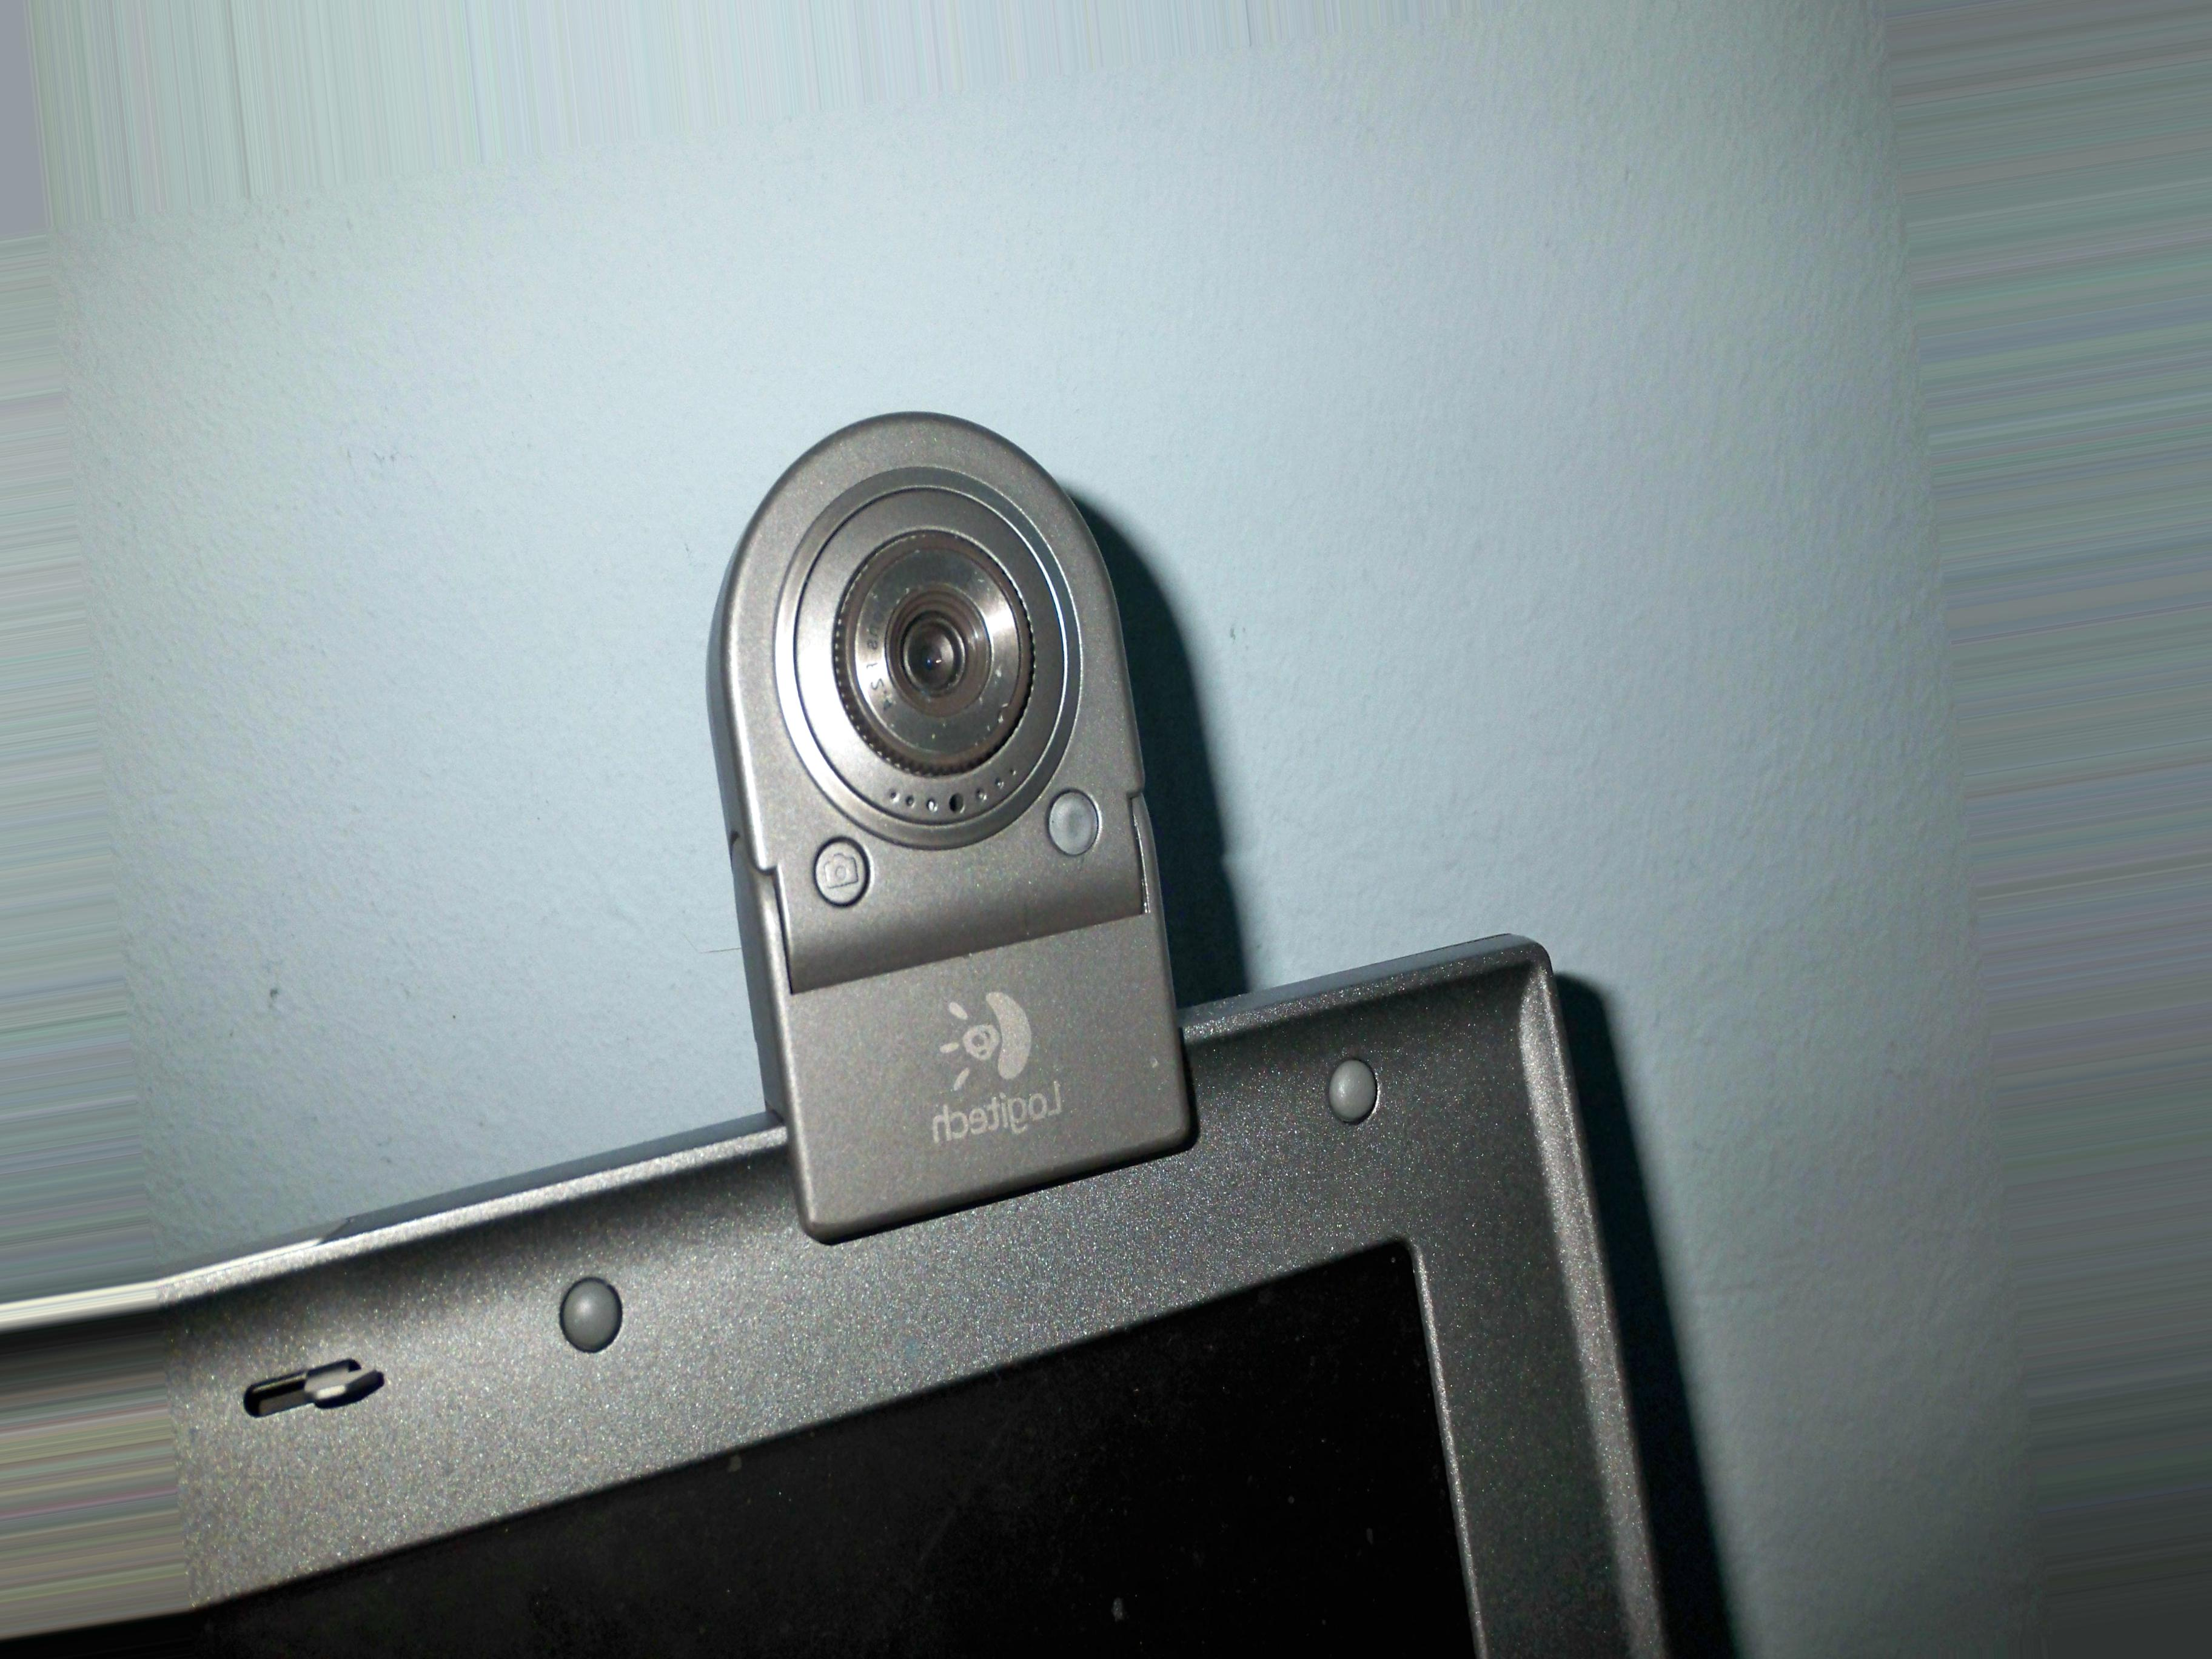webcam: (662, 383, 1212, 1009)
